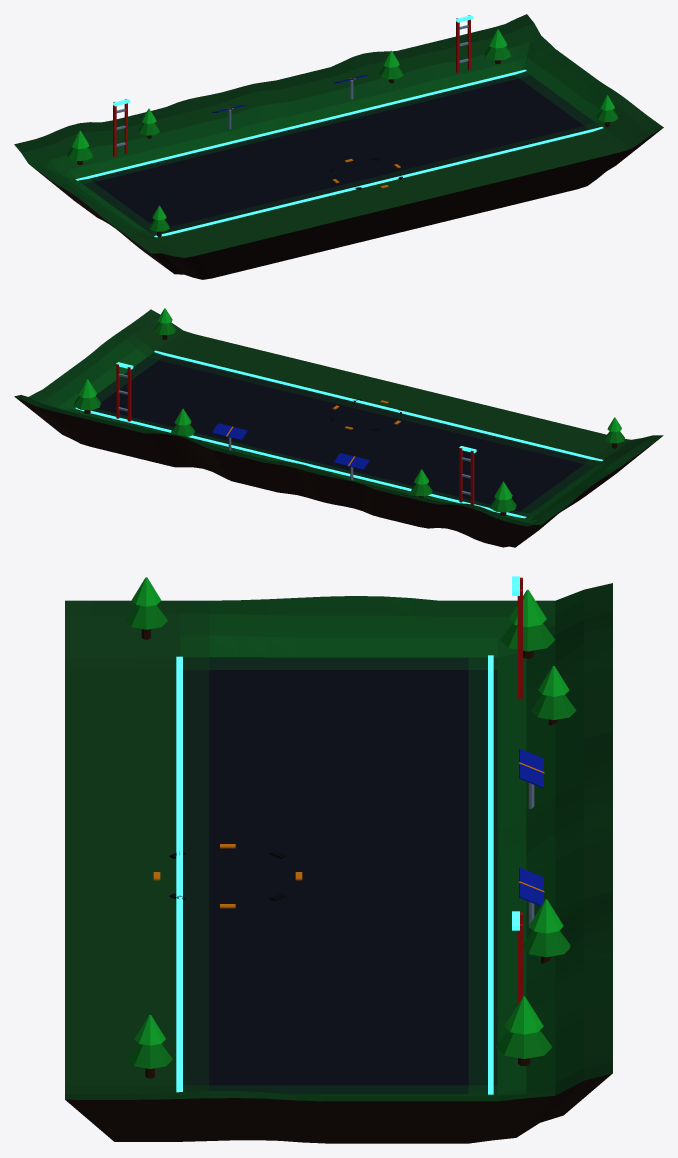
The model's file is sector1_earth_colony.glb.
3 renders of one model, top to bottom at view 1: azimuth 30°, elevation 25°; view 2: azimuth 150°, elevation 25°; view 3: azimuth 270°, elevation 25°, orthographic. The views are drawn at different scales.
Parts seen in each view (by area): view 1: Sector1EarthColony; view 2: Sector1EarthColony; view 3: Sector1EarthColony.
Boxes of the visible parts, x1=… form: Sector1EarthColony: x1=14, y1=14, x2=663, y2=279; Sector1EarthColony: x1=14, y1=308, x2=663, y2=547; Sector1EarthColony: x1=65, y1=576, x2=612, y2=1143.
Bounding box in the file's own units: 32 × 6.02 × 14.8.
